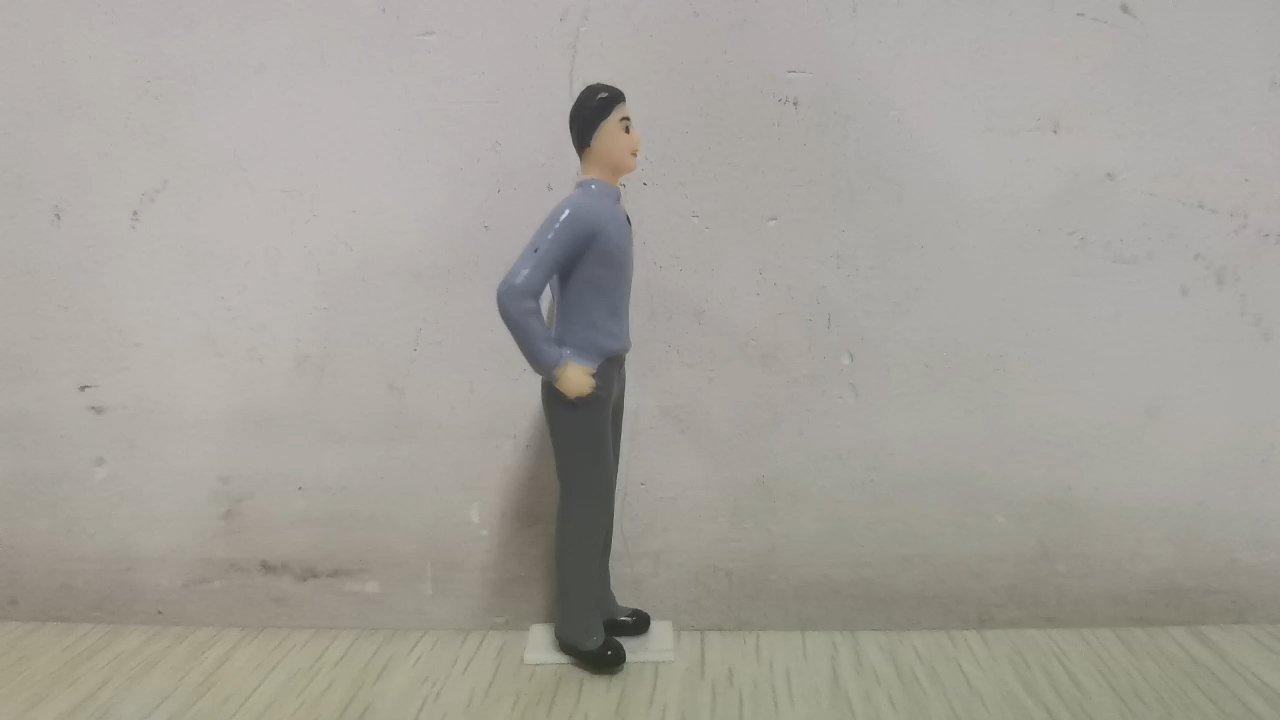person: (494, 80, 653, 670)
